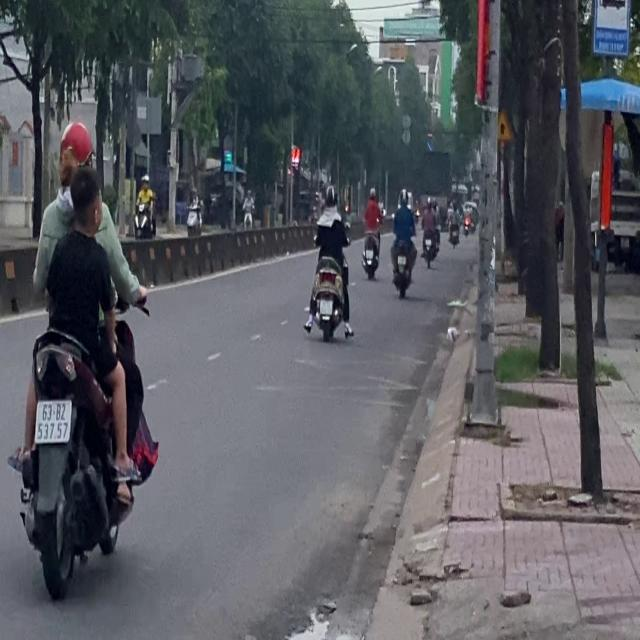helmet: (56, 120, 94, 186)
licenseplate: (10, 118, 155, 595)
motorcyclist: (68, 164, 103, 234)
nohelmet: (35, 399, 70, 440)
